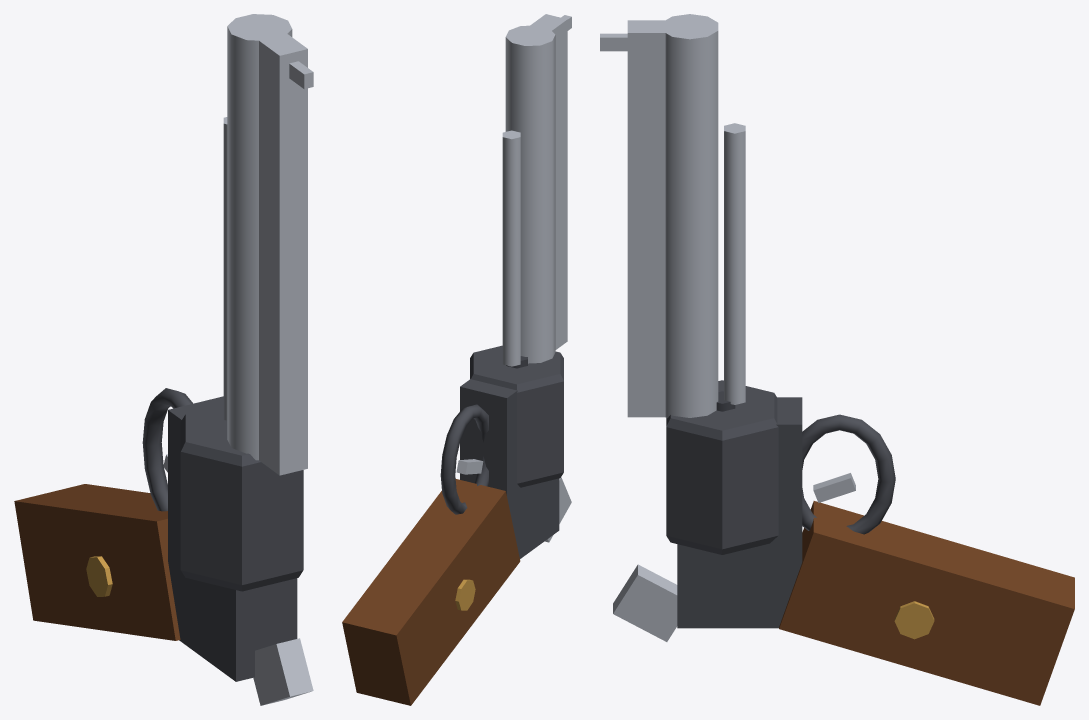
File: revolver.glb
3 views of the same model, side by side, from view 1: azimuth 30°, elevation 25°; view 2: azimuth 150°, elevation 25°; view 3: azimuth 270°, elevation 25° (orthographic). The views are drawn at different scales.
Visible parts, largest first — view 1: Revolver_Steel, Revolver_Gunmetal, Revolver_Wood, Revolver_Brass; view 2: Revolver_Steel, Revolver_Wood, Revolver_Gunmetal, Revolver_Brass; view 3: Revolver_Steel, Revolver_Wood, Revolver_Gunmetal, Revolver_Brass.
Boxes of the visible parts, x1,y1,x2,y2 form: Revolver_Steel: (163, 14, 313, 705); Revolver_Gunmetal: (142, 388, 303, 681); Revolver_Wood: (14, 484, 180, 640); Revolver_Brass: (86, 556, 112, 596); Revolver_Steel: (456, 14, 571, 542); Revolver_Wood: (342, 479, 520, 705); Revolver_Gunmetal: (440, 345, 563, 558); Revolver_Brass: (455, 579, 475, 610); Revolver_Steel: (600, 14, 855, 641); Revolver_Wood: (779, 501, 1074, 705); Revolver_Gunmetal: (666, 380, 895, 628); Revolver_Brass: (894, 601, 934, 639).
Size of the model in its own units: 0.052 by 0.2934 by 0.1903.
